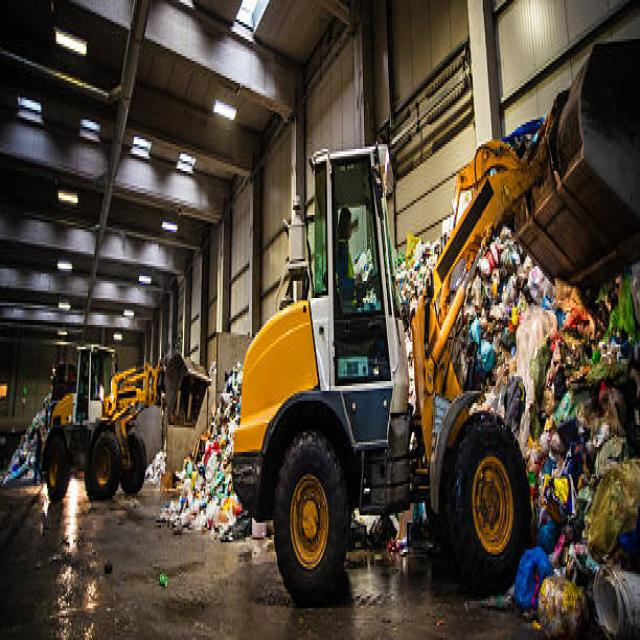trash: (411, 259, 623, 589), (180, 388, 238, 532), (6, 403, 52, 486)
